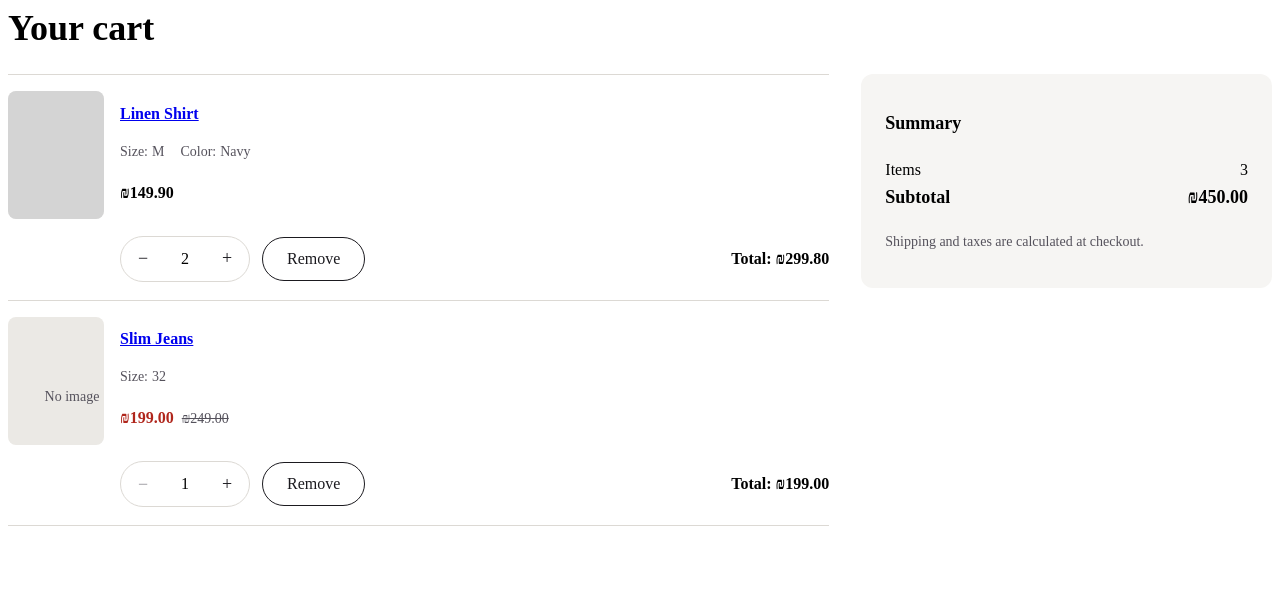
CartPage › keeps the server quantity and shows an error when an update fails
Expected: the list named "Cart items" is shown, x1=8 y1=74 x2=829 y2=526
Click the button named "Increase quantity". click: [227, 259]
box: x1=205 y1=237 x2=249 y2=281
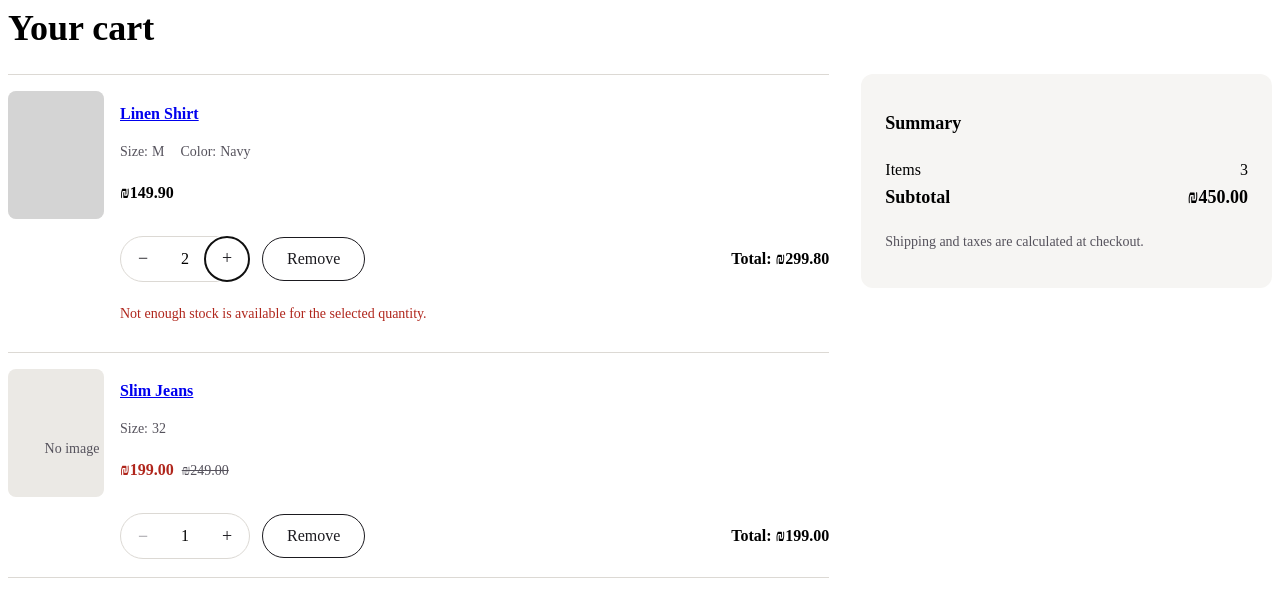
Expected: the element named "Quantity" shows "2", x1=181 y1=250 x2=189 y2=267
Now the message reads "Not enough stock is available for the selected quantity.", box x1=120 y1=306 x2=427 y2=321
